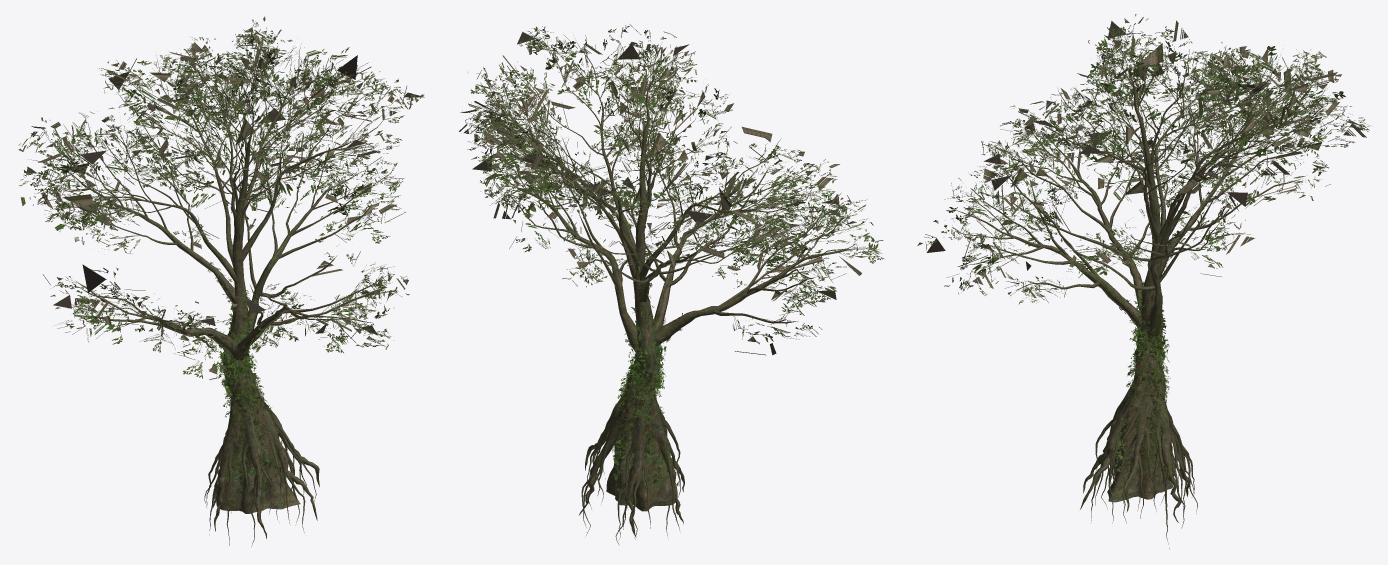
The model's file is Tree - Alien Tree 04 3-BDkuVEE9.glb.
The picture shows the model from 3 angles, left to right: view 1: azimuth 30°, elevation 25°; view 2: azimuth 150°, elevation 25°; view 3: azimuth 270°, elevation 25°; orthographic projection. The views are drawn at different scales.
Parts seen in each view (by area): view 1: Tree_04_3_L0(Clone), Tree_04_3_plants_L0(Clone); view 2: Tree_04_3_L0(Clone), Tree_04_3_plants_L0(Clone); view 3: Tree_04_3_L0(Clone), Tree_04_3_plants_L0(Clone).
Part boxes in pixels (box(x1,y1,x2,y2)): Tree_04_3_L0(Clone): box(18, 16, 424, 546); Tree_04_3_plants_L0(Clone): box(208, 262, 285, 498); Tree_04_3_L0(Clone): box(459, 24, 884, 545); Tree_04_3_plants_L0(Clone): box(613, 276, 682, 496); Tree_04_3_L0(Clone): box(917, 14, 1369, 548); Tree_04_3_plants_L0(Clone): box(1111, 233, 1181, 480).
Size of the model in its own units: 16.75 by 22.21 by 18.25.
3 materials, 3 textured.
